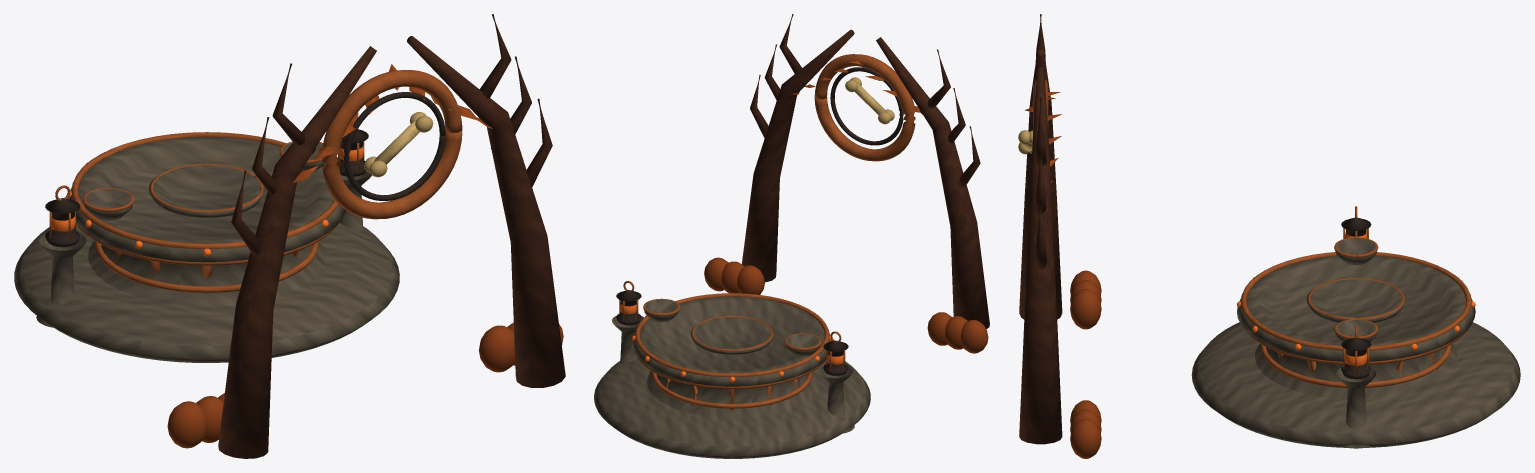
The model's file is Autumn_Fusion.fbx.
The picture shows the model from 3 angles, left to right: view 1: azimuth 30°, elevation 25°; view 2: azimuth 150°, elevation 25°; view 3: azimuth 270°, elevation 25°; orthographic projection. The views are drawn at different scales.
Visible parts, largest first — view 1: Autumn_Fusion_Stone, Autumn_Fusion_Wood, Autumn_Fusion_Metal, Autumn_Fusion_Accent, Autumn_Fusion_Iron, Autumn_Fusion_Ivory, Autumn_Fusion_Light; view 2: Autumn_Fusion_Stone, Autumn_Fusion_Wood, Autumn_Fusion_Metal, Autumn_Fusion_Accent, Autumn_Fusion_Iron, Autumn_Fusion_Ivory, Autumn_Fusion_Light; view 3: Autumn_Fusion_Stone, Autumn_Fusion_Wood, Autumn_Fusion_Metal, Autumn_Fusion_Accent, Autumn_Fusion_Iron.
Boxes of the visible parts, x1,y1,x2,y2 form: Autumn_Fusion_Stone: (14,136,399,362); Autumn_Fusion_Wood: (218,14,565,458); Autumn_Fusion_Metal: (49,70,462,292); Autumn_Fusion_Accent: (167,64,563,448); Autumn_Fusion_Iron: (45,92,445,247); Autumn_Fusion_Ivory: (364,112,433,177); Autumn_Fusion_Light: (52,145,364,256); Autumn_Fusion_Stone: (594,296,870,458); Autumn_Fusion_Wood: (742,14,989,328); Autumn_Fusion_Metal: (619,54,915,410); Autumn_Fusion_Accent: (704,61,988,353); Autumn_Fusion_Iron: (616,67,903,375); Autumn_Fusion_Ivory: (845,77,894,124); Autumn_Fusion_Light: (619,302,843,382); Autumn_Fusion_Stone: (1191,238,1520,448); Autumn_Fusion_Wood: (1019,14,1062,444); Autumn_Fusion_Metal: (1033,79,1471,387); Autumn_Fusion_Accent: (1025,92,1101,458); Autumn_Fusion_Iron: (1341,217,1371,379).
Size of the model in its own units: 8.56 by 8.02 by 11.15.
